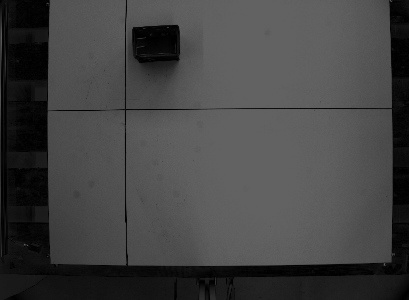kltxs: (130, 23, 184, 64)
